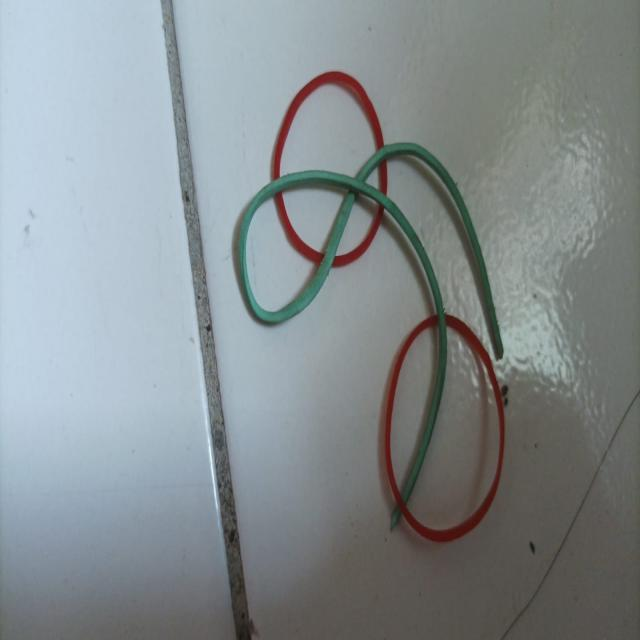Organik: (228, 37, 518, 555)
